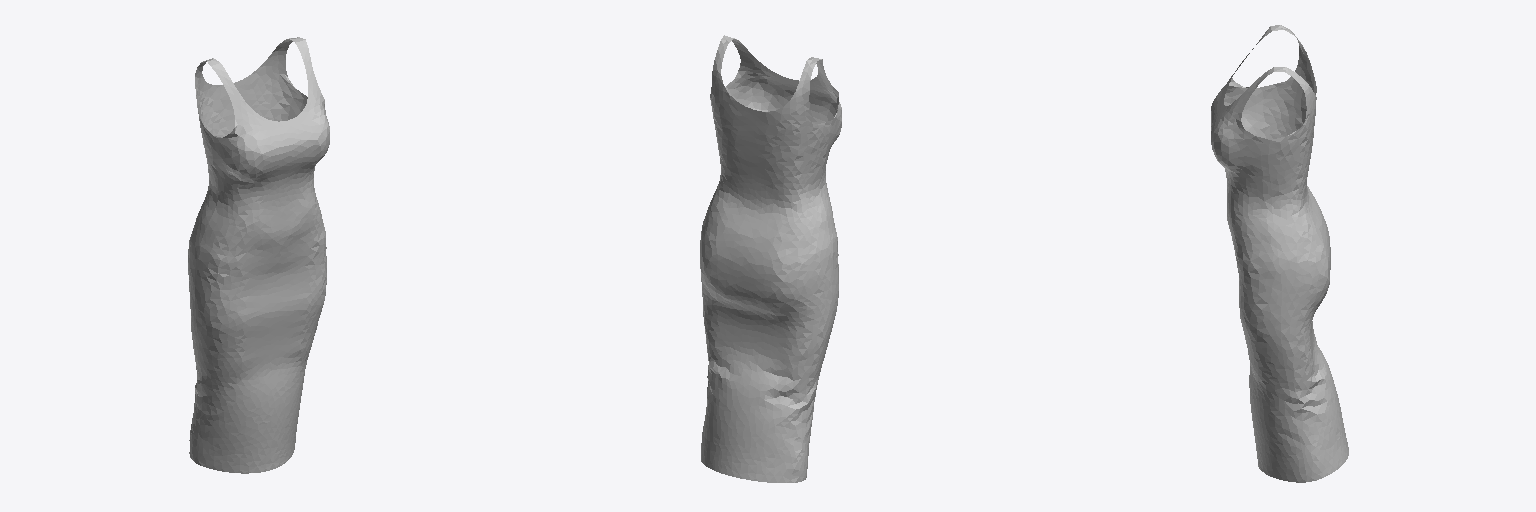
Rendered from small_blackBodycon.obj.
3 views of the same model, side by side, from view 1: azimuth 30°, elevation 25°; view 2: azimuth 150°, elevation 25°; view 3: azimuth 270°, elevation 25° (orthographic).
Bounding box in the file's own units: 326 × 1029 × 313.